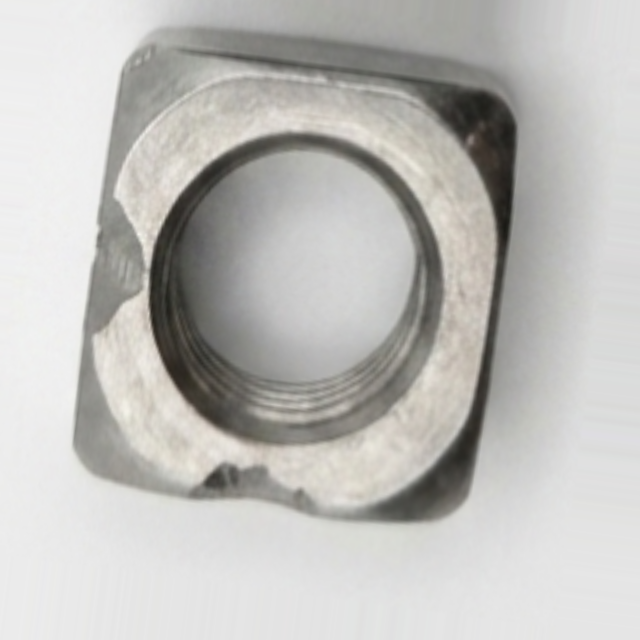defect: (167, 451, 331, 525), (84, 187, 145, 353)
